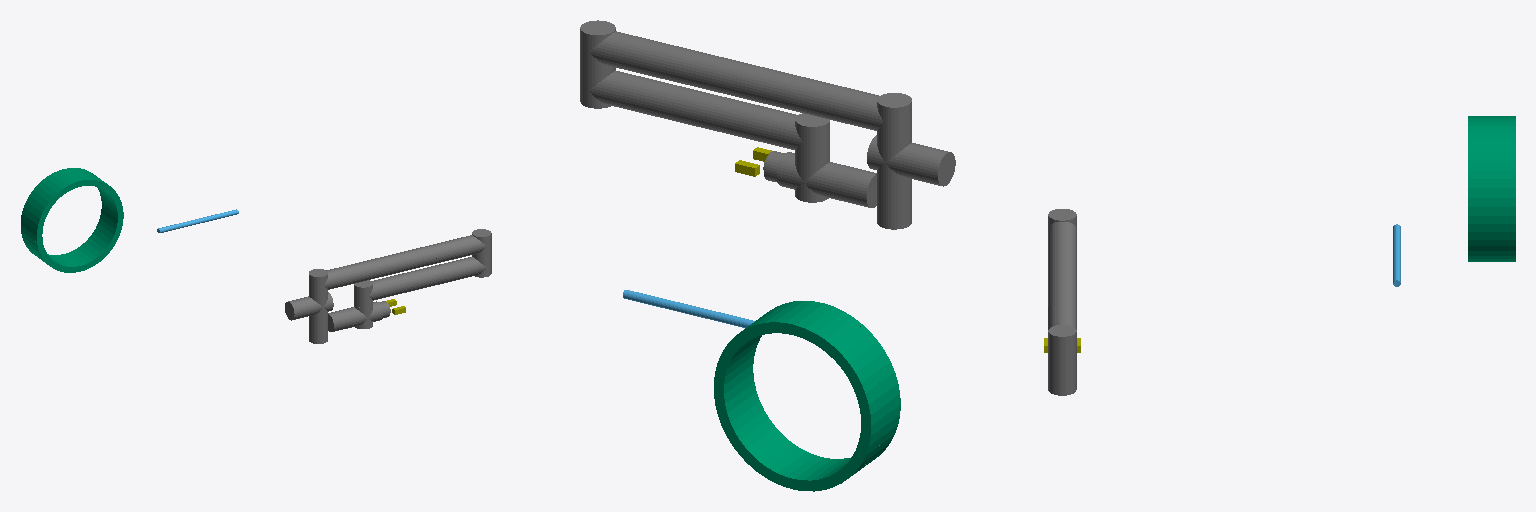
--- Render facts (derived) ---
3 views of the same robot in one strip: view 1: azimuth 30°, elevation 25°; view 2: azimuth 150°, elevation 25°; view 3: azimuth 270°, elevation 25° (orthographic).
Model satellite_with_arm with 15 links and 14 joints (7 revolute, 2 prismatic, 5 fixed), rooted at satellite_with_arm, posed joints at zero except 2 at the middle of their limits (finger_right_prismatic = 0.055, finger_left_prismatic = 0.055).
Links seen in each view (by area): view 1: base_ring, Link2, Link4, Link5, Link3, Link6, Link1; view 2: base_ring, Link2, Link4, Link5, Link3, Link6, Link1, base_urdf, ring1; view 3: base_ring, Link2, Link3, Link4.
Link boxes in pixels (x1,y1,x2,y2): base_ring: (21,168,123,272); Link2: (309,245,435,296); Link4: (413,253,491,289); Link5: (354,271,418,307); Link3: (431,229,491,263); Link6: (328,302,382,331); Link1: (304,292,333,343); base_ring: (714,301,900,491); Link2: (680,50,911,143); Link4: (580,65,722,130); Link5: (713,97,829,163); Link3: (580,20,690,84); Link6: (778,152,876,207); Link1: (867,135,923,229); base_urdf: (912,146,955,186); ring1: (623,290,754,327); base_ring: (1468,116,1515,261); Link2: (1048,209,1076,306); Link3: (1048,296,1076,365); Link4: (1048,361,1076,395).
Bounding box of the posed robot: 2.79 × 2.48 × 0.7713 m (x, y, z).
Meshes: 9 distinct files referenced, 8 mesh visuals loaded (8 binary STL); not drawn: 1 (reference not matched to a file when rendering).

The robot description file, URDF, robot "satellite_with_arm":
  
<robot name="satellite_with_arm">
  <material name="metal_grey">
    <color rgba="0.501960784313725 0.501960784313725 0.501960784313725 1"/>
  </material>
    <material name="yellow">
    <color rgba="0.7 0.7 0 1"/>
  </material>
  <link name="satellite_with_arm">
    <inertial>
      <mass value="100" />
      <!-- center of mass (com) is defined w.r.t. link local coordinate system -->
      <!-- give a little y-offset to make the top precess -->
      <origin xyz="0 0 0" /> 
      <inertia  ixx=" 45.3333" ixy="0.0"  ixz="0.0"  iyy=" 45.3333"  iyz="0.0"  izz="24" />
    </inertial>
       <visual>
           <!--  <origin rpy="0 0 0" xyz="-0.14599 -0.63199 0"/>-->

      <origin xyz="0.14599 0.63199 0" rpy="1.5708 3.141592 3.141592" />
      <geometry>
        <mesh filename="meshes/visual/satellite_with_arm_VISUAL.obj"  />
      </geometry>
      
 
    </visual>

    <collision>
      <origin rpy="0 0 0" xyz="0 0 0"/>
    <geometry>
       <box size="1.2 2 1.2" />
     </geometry>
    </collision>
  </link>
  <link name="ring1">
 <inertial>
     <mass value="0" />
      <!-- center of mass (com) is defined w.r.t. link local coordinate system -->
      <!-- give a little y-offset to make the top precess -->
      <origin xyz="0 0 0" /> 
      <inertia  ixx="0.0" ixy="0.0"  ixz="0.0"  iyy="0.0"  iyz="0.0"  izz="0.0" />
    </inertial>
       <visual>
      <origin xyz="0 0 0" rpy="1.5708 0 1.5708"/> 
	<geometry>
       <cylinder radius="0.02" length="0.7"/>

     </geometry>
    </visual>    
    <collision>
      <origin xyz="0 0 0" rpy="1.5708 0 1.5708"/> 
	   <geometry>
       <cylinder radius="0.02" length="0.7"/>
            </geometry>
    </collision>    
    

</link>
<link name="base_ring">
 <inertial>
     <mass value="0" />
      <!-- center of mass (com) is defined w.r.t. link local coordinate system -->
      <!-- give a little y-offset to make the top precess -->
      <origin xyz="0 -0.512734 0" /> 
      <inertia  ixx="0.0" ixy="0.0"  ixz="0.0"  iyy="0.0"  iyz="0.0"  izz="0.0" />
    </inertial>
<visual> <origin xyz='0.36 0 0 ' rpy = '0 0 0'/> 	   <geometry><box size='0.05 0.25 0.05' /></geometry> </visual> 
<visual> <origin xyz='0.35704 0 0.046036 ' rpy = '0 -0.12823 0'/> 	   <geometry><box size='0.05 0.25 0.05' /></geometry> </visual> 
<visual> <origin xyz='0.34823 0 0.091316 ' rpy = '0 -0.25646 0'/> 	   <geometry><box size='0.05 0.25 0.05' /></geometry> </visual> 
<visual> <origin xyz='0.33369 0 0.1351 ' rpy = '0 -0.38468 0'/> 	   <geometry><box size='0.05 0.25 0.05' /></geometry> </visual> 
<visual> <origin xyz='0.31367 0 0.17666 ' rpy = '0 -0.51291 0'/> 	   <geometry><box size='0.05 0.25 0.05' /></geometry> </visual> 
<visual> <origin xyz='0.28851 0 0.21532 ' rpy = '0 -0.64114 0'/> 	   <geometry><box size='0.05 0.25 0.05' /></geometry> </visual> 
<visual> <origin xyz='0.25861 0 0.25045 ' rpy = '0 -0.76937 0'/> 	   <geometry><box size='0.05 0.25 0.05' /></geometry> </visual> 
<visual> <origin xyz='0.22446 0 0.28146 ' rpy = '0 -0.8976 0'/> 	   <geometry><box size='0.05 0.25 0.05' /></geometry> </visual> 
<visual> <origin xyz='0.18662 0 0.30785 ' rpy = '0 -1.0258 0'/> 	   <geometry><box size='0.05 0.25 0.05' /></geometry> </visual> 
<visual> <origin xyz='0.14572 0 0.32919 ' rpy = '0 -1.1541 0'/> 	   <geometry><box size='0.05 0.25 0.05' /></geometry> </visual> 
<visual> <origin xyz='0.10243 0 0.34512 ' rpy = '0 -1.2823 0'/> 	   <geometry><box size='0.05 0.25 0.05' /></geometry> </visual> 
<visual> <origin xyz='0.057456 0 0.35539 ' rpy = '0 -1.4105 0'/> 	   <geometry><box size='0.05 0.25 0.05' /></geometry> </visual> 
<visual> <origin xyz='0.011539 0 0.35982 ' rpy = '0 -1.5387 0'/> 	   <geometry><box size='0.05 0.25 0.05' /></geometry> </visual> 
<visual> <origin xyz='-0.034568 0 0.35834 ' rpy = '0 -1.667 0'/> 	   <geometry><box size='0.05 0.25 0.05' /></geometry> </visual> 
<visual> <origin xyz='-0.080108 0 0.35097 ' rpy = '0 -1.7952 0'/> 	   <geometry><box size='0.05 0.25 0.05' /></geometry> </visual> 
<visual> <origin xyz='-0.12433 0 0.33785 ' rpy = '0 -1.9234 0'/> 	   <geometry><box size='0.05 0.25 0.05' /></geometry> </visual> 
<visual> <origin xyz='-0.16651 0 0.31918 ' rpy = '0 -2.0517 0'/> 	   <geometry><box size='0.05 0.25 0.05' /></geometry> </visual> 
<visual> <origin xyz='-0.20596 0 0.29526 ' rpy = '0 -2.1799 0'/> 	   <geometry><box size='0.05 0.25 0.05' /></geometry> </visual> 
<visual> <origin xyz='-0.24203 0 0.2665 ' rpy = '0 -2.3081 0'/> 	   <geometry><box size='0.05 0.25 0.05' /></geometry> </visual> 
<visual> <origin xyz='-0.27412 0 0.23336 ' rpy = '0 -2.4363 0'/> 	   <geometry><box size='0.05 0.25 0.05' /></geometry> </visual> 
<visual> <origin xyz='-0.30171 0 0.19639 ' rpy = '0 -2.5646 0'/> 	   <geometry><box size='0.05 0.25 0.05' /></geometry> </visual> 
<visual> <origin xyz='-0.32435 0 0.1562 ' rpy = '0 -2.6928 0'/> 	   <geometry><box size='0.05 0.25 0.05' /></geometry> </visual> 
<visual> <origin xyz='-0.34166 0 0.11344 ' rpy = '0 -2.821 0'/> 	   <geometry><box size='0.05 0.25 0.05' /></geometry> </visual> 
<visual> <origin xyz='-0.35336 0 0.068817 ' rpy = '0 -2.9493 0'/> 	   <geometry><box size='0.05 0.25 0.05' /></geometry> </visual> 
<visual> <origin xyz='-0.35926 0 0.023065 ' rpy = '0 -3.0775 0'/> 	   <geometry><box size='0.05 0.25 0.05' /></geometry> </visual> 
<visual> <origin xyz='-0.35926 0 -0.023065 ' rpy = '0 -3.2057 0'/> 	   <geometry><box size='0.05 0.25 0.05' /></geometry> </visual> 
<visual> <origin xyz='-0.35336 0 -0.068817 ' rpy = '0 -3.3339 0'/> 	   <geometry><box size='0.05 0.25 0.05' /></geometry> </visual> 
<visual> <origin xyz='-0.34166 0 -0.11344 ' rpy = '0 -3.4622 0'/> 	   <geometry><box size='0.05 0.25 0.05' /></geometry> </visual> 
<visual> <origin xyz='-0.32435 0 -0.1562 ' rpy = '0 -3.5904 0'/> 	   <geometry><box size='0.05 0.25 0.05' /></geometry> </visual> 
<visual> <origin xyz='-0.30171 0 -0.19639 ' rpy = '0 -3.7186 0'/> 	   <geometry><box size='0.05 0.25 0.05' /></geometry> </visual> 
<visual> <origin xyz='-0.27412 0 -0.23336 ' rpy = '0 -3.8468 0'/> 	   <geometry><box size='0.05 0.25 0.05' /></geometry> </visual> 
<visual> <origin xyz='-0.24203 0 -0.2665 ' rpy = '0 -3.9751 0'/> 	   <geometry><box size='0.05 0.25 0.05' /></geometry> </visual> 
<visual> <origin xyz='-0.20596 0 -0.29526 ' rpy = '0 -4.1033 0'/> 	   <geometry><box size='0.05 0.25 0.05' /></geometry> </visual> 
<visual> <origin xyz='-0.16651 0 -0.31918 ' rpy = '0 -4.2315 0'/> 	   <geometry><box size='0.05 0.25 0.05' /></geometry> </visual> 
<visual> <origin xyz='-0.12433 0 -0.33785 ' rpy = '0 -4.3598 0'/> 	   <geometry><box size='0.05 0.25 0.05' /></geometry> </visual> 
<visual> <origin xyz='-0.080108 0 -0.35097 ' rpy = '0 -4.488 0'/> 	   <geometry><box size='0.05 0.25 0.05' /></geometry> </visual> 
<visual> <origin xyz='-0.034568 0 -0.35834 ' rpy = '0 -4.6162 0'/> 	   <geometry><box size='0.05 0.25 0.05' /></geometry> </visual> 
<visual> <origin xyz='0.011539 0 -0.35982 ' rpy = '0 -4.7444 0'/> 	   <geometry><box size='0.05 0.25 0.05' /></geometry> </visual> 
<visual> <origin xyz='0.057456 0 -0.35539 ' rpy = '0 -4.8727 0'/> 	   <geometry><box size='0.05 0.25 0.05' /></geometry> </visual> 
<visual> <origin xyz='0.10243 0 -0.34512 ' rpy = '0 -5.0009 0'/> 	   <geometry><box size='0.05 0.25 0.05' /></geometry> </visual> 
<visual> <origin xyz='0.14572 0 -0.32919 ' rpy = '0 -5.1291 0'/> 	   <geometry><box size='0.05 0.25 0.05' /></geometry> </visual> 
<visual> <origin xyz='0.18662 0 -0.30785 ' rpy = '0 -5.2574 0'/> 	   <geometry><box size='0.05 0.25 0.05' /></geometry> </visual> 
<visual> <origin xyz='0.22446 0 -0.28146 ' rpy = '0 -5.3856 0'/> 	   <geometry><box size='0.05 0.25 0.05' /></geometry> </visual> 
<visual> <origin xyz='0.25861 0 -0.25045 ' rpy = '0 -5.5138 0'/> 	   <geometry><box size='0.05 0.25 0.05' /></geometry> </visual> 
<visual> <origin xyz='0.28851 0 -0.21532 ' rpy = '0 -5.642 0'/> 	   <geometry><box size='0.05 0.25 0.05' /></geometry> </visual> 
<visual> <origin xyz='0.31367 0 -0.17666 ' rpy = '0 -5.7703 0'/> 	   <geometry><box size='0.05 0.25 0.05' /></geometry> </visual> 
<visual> <origin xyz='0.33369 0 -0.1351 ' rpy = '0 -5.8985 0'/> 	   <geometry><box size='0.05 0.25 0.05' /></geometry> </visual> 
<visual> <origin xyz='0.34823 0 -0.091316 ' rpy = '0 -6.0267 0'/> 	   <geometry><box size='0.05 0.25 0.05' /></geometry> </visual> 
<visual> <origin xyz='0.35704 0 -0.046036 ' rpy = '0 -6.155 0'/> 	   <geometry><box size='0.05 0.25 0.05' /></geometry> </visual> 
<visual> <origin xyz='0.36 0 -8.8175e-17 ' rpy = '0 -6.2832 0'/> 	   <geometry><box size='0.05 0.25 0.05' /></geometry> </visual> 
<collision> <origin xyz='0.36 0 0 ' rpy = '0 0 0'/> 	   <geometry><box size='0.05 0.25 0.05' /></geometry> </collision> 
<collision> <origin xyz='0.35704 0 0.046036 ' rpy = '0 -0.12823 0'/> 	   <geometry><box size='0.05 0.25 0.05' /></geometry> </collision> 
<collision> <origin xyz='0.34823 0 0.091316 ' rpy = '0 -0.25646 0'/> 	   <geometry><box size='0.05 0.25 0.05' /></geometry> </collision> 
<collision> <origin xyz='0.33369 0 0.1351 ' rpy = '0 -0.38468 0'/> 	   <geometry><box size='0.05 0.25 0.05' /></geometry> </collision> 
<collision> <origin xyz='0.31367 0 0.17666 ' rpy = '0 -0.51291 0'/> 	   <geometry><box size='0.05 0.25 0.05' /></geometry> </collision> 
<collision> <origin xyz='0.28851 0 0.21532 ' rpy = '0 -0.64114 0'/> 	   <geometry><box size='0.05 0.25 0.05' /></geometry> </collision> 
<collision> <origin xyz='0.25861 0 0.25045 ' rpy = '0 -0.76937 0'/> 	   <geometry><box size='0.05 0.25 0.05' /></geometry> </collision> 
<collision> <origin xyz='0.22446 0 0.28146 ' rpy = '0 -0.8976 0'/> 	   <geometry><box size='0.05 0.25 0.05' /></geometry> </collision> 
<collision> <origin xyz='0.18662 0 0.30785 ' rpy = '0 -1.0258 0'/> 	   <geometry><box size='0.05 0.25 0.05' /></geometry> </collision> 
<collision> <origin xyz='0.14572 0 0.32919 ' rpy = '0 -1.1541 0'/> 	   <geometry><box size='0.05 0.25 0.05' /></geometry> </collision> 
<collision> <origin xyz='0.10243 0 0.34512 ' rpy = '0 -1.2823 0'/> 	   <geometry><box size='0.05 0.25 0.05' /></geometry> </collision> 
<collision> <origin xyz='0.057456 0 0.35539 ' rpy = '0 -1.4105 0'/> 	   <geometry><box size='0.05 0.25 0.05' /></geometry> </collision> 
<collision> <origin xyz='0.011539 0 0.35982 ' rpy = '0 -1.5387 0'/> 	   <geometry><box size='0.05 0.25 0.05' /></geometry> </collision> 
<collision> <origin xyz='-0.034568 0 0.35834 ' rpy = '0 -1.667 0'/> 	   <geometry><box size='0.05 0.25 0.05' /></geometry> </collision> 
<collision> <origin xyz='-0.080108 0 0.35097 ' rpy = '0 -1.7952 0'/> 	   <geometry><box size='0.05 0.25 0.05' /></geometry> </collision> 
<collision> <origin xyz='-0.12433 0 0.33785 ' rpy = '0 -1.9234 0'/> 	   <geometry><box size='0.05 0.25 0.05' /></geometry> </collision> 
<collision> <origin xyz='-0.16651 0 0.31918 ' rpy = '0 -2.0517 0'/> 	   <geometry><box size='0.05 0.25 0.05' /></geometry> </collision> 
<collision> <origin xyz='-0.20596 0 0.29526 ' rpy = '0 -2.1799 0'/> 	   <geometry><box size='0.05 0.25 0.05' /></geometry> </collision> 
<collision> <origin xyz='-0.24203 0 0.2665 ' rpy = '0 -2.3081 0'/> 	   <geometry><box size='0.05 0.25 0.05' /></geometry> </collision> 
<collision> <origin xyz='-0.27412 0 0.23336 ' rpy = '0 -2.4363 0'/> 	   <geometry><box size='0.05 0.25 0.05' /></geometry> </collision> 
<collision> <origin xyz='-0.30171 0 0.19639 ' rpy = '0 -2.5646 0'/> 	   <geometry><box size='0.05 0.25 0.05' /></geometry> </collision> 
<collision> <origin xyz='-0.32435 0 0.1562 ' rpy = '0 -2.6928 0'/> 	   <geometry><box size='0.05 0.25 0.05' /></geometry> </collision> 
<collision> <origin xyz='-0.34166 0 0.11344 ' rpy = '0 -2.821 0'/> 	   <geometry><box size='0.05 0.25 0.05' /></geometry> </collision> 
<collision> <origin xyz='-0.35336 0 0.068817 ' rpy = '0 -2.9493 0'/> 	   <geometry><box size='0.05 0.25 0.05' /></geometry> </collision> 
<collision> <origin xyz='-0.35926 0 0.023065 ' rpy = '0 -3.0775 0'/> 	   <geometry><box size='0.05 0.25 0.05' /></geometry> </collision> 
<collision> <origin xyz='-0.35926 0 -0.023065 ' rpy = '0 -3.2057 0'/> 	   <geometry><box size='0.05 0.25 0.05' /></geometry> </collision> 
<collision> <origin xyz='-0.35336 0 -0.068817 ' rpy = '0 -3.3339 0'/> 	   <geometry><box size='0.05 0.25 0.05' /></geometry> </collision> 
<collision> <origin xyz='-0.34166 0 -0.11344 ' rpy = '0 -3.4622 0'/> 	   <geometry><box size='0.05 0.25 0.05' /></geometry> </collision> 
<collision> <origin xyz='-0.32435 0 -0.1562 ' rpy = '0 -3.5904 0'/> 	   <geometry><box size='0.05 0.25 0.05' /></geometry> </collision> 
<collision> <origin xyz='-0.30171 0 -0.19639 ' rpy = '0 -3.7186 0'/> 	   <geometry><box size='0.05 0.25 0.05' /></geometry> </collision> 
<collision> <origin xyz='-0.27412 0 -0.23336 ' rpy = '0 -3.8468 0'/> 	   <geometry><box size='0.05 0.25 0.05' /></geometry> </collision> 
<collision> <origin xyz='-0.24203 0 -0.2665 ' rpy = '0 -3.9751 0'/> 	   <geometry><box size='0.05 0.25 0.05' /></geometry> </collision> 
<collision> <origin xyz='-0.20596 0 -0.29526 ' rpy = '0 -4.1033 0'/> 	   <geometry><box size='0.05 0.25 0.05' /></geometry> </collision> 
<collision> <origin xyz='-0.16651 0 -0.31918 ' rpy = '0 -4.2315 0'/> 	   <geometry><box size='0.05 0.25 0.05' /></geometry> </collision> 
<collision> <origin xyz='-0.12433 0 -0.33785 ' rpy = '0 -4.3598 0'/> 	   <geometry><box size='0.05 0.25 0.05' /></geometry> </collision> 
<collision> <origin xyz='-0.080108 0 -0.35097 ' rpy = '0 -4.488 0'/> 	   <geometry><box size='0.05 0.25 0.05' /></geometry> </collision> 
<collision> <origin xyz='-0.034568 0 -0.35834 ' rpy = '0 -4.6162 0'/> 	   <geometry><box size='0.05 0.25 0.05' /></geometry> </collision> 
<collision> <origin xyz='0.011539 0 -0.35982 ' rpy = '0 -4.7444 0'/> 	   <geometry><box size='0.05 0.25 0.05' /></geometry> </collision> 
<collision> <origin xyz='0.057456 0 -0.35539 ' rpy = '0 -4.8727 0'/> 	   <geometry><box size='0.05 0.25 0.05' /></geometry> </collision> 
<collision> <origin xyz='0.10243 0 -0.34512 ' rpy = '0 -5.0009 0'/> 	   <geometry><box size='0.05 0.25 0.05' /></geometry> </collision> 
<collision> <origin xyz='0.14572 0 -0.32919 ' rpy = '0 -5.1291 0'/> 	   <geometry><box size='0.05 0.25 0.05' /></geometry> </collision> 
<collision> <origin xyz='0.18662 0 -0.30785 ' rpy = '0 -5.2574 0'/> 	   <geometry><box size='0.05 0.25 0.05' /></geometry> </collision> 
<collision> <origin xyz='0.22446 0 -0.28146 ' rpy = '0 -5.3856 0'/> 	   <geometry><box size='0.05 0.25 0.05' /></geometry> </collision> 
<collision> <origin xyz='0.25861 0 -0.25045 ' rpy = '0 -5.5138 0'/> 	   <geometry><box size='0.05 0.25 0.05' /></geometry> </collision> 
<collision> <origin xyz='0.28851 0 -0.21532 ' rpy = '0 -5.642 0'/> 	   <geometry><box size='0.05 0.25 0.05' /></geometry> </collision> 
<collision> <origin xyz='0.31367 0 -0.17666 ' rpy = '0 -5.7703 0'/> 	   <geometry><box size='0.05 0.25 0.05' /></geometry> </collision> 
<collision> <origin xyz='0.33369 0 -0.1351 ' rpy = '0 -5.8985 0'/> 	   <geometry><box size='0.05 0.25 0.05' /></geometry> </collision> 
<collision> <origin xyz='0.34823 0 -0.091316 ' rpy = '0 -6.0267 0'/> 	   <geometry><box size='0.05 0.25 0.05' /></geometry> </collision> 
<collision> <origin xyz='0.35704 0 -0.046036 ' rpy = '0 -6.155 0'/> 	   <geometry><box size='0.05 0.25 0.05' /></geometry> </collision> 
<collision> <origin xyz='0.36 0 -8.8175e-17 ' rpy = '0 -6.2832 0'/> 	   <geometry><box size='0.05 0.25 0.05' /></geometry> </collision>  
</link>

  <link name="base_urdf">
    <inertial>
      <origin xyz="0 0 0" rpy="0 0 0" />
      <mass value="4.48218" />
      <inertia
        ixx=" 0.04755097476"
        ixy=" 0.00000000000"
        ixz=" 0.00000000000"
        iyy=" 0.04755157166"
        iyz="-0.00000000081"
        izz=" 0.00981063776" />
    </inertial>
    <!--<inertial>
      <origin xyz="0 0 0" rpy="0 0 0" />
      <mass value="0" />
      <inertia
        ixx=" 0.00"
        ixy=" 0.00000000000"
        ixz=" 0.00000000000"
        iyy=" 0.00"
        iyz="0"
        izz=" 0" />
    </inertial>-->
    <visual>
      <origin xyz="0 0 0" rpy="0 0 0" />
      <geometry>
        <mesh filename="meshes/base.stl" />
      </geometry>
      <material name="metal_grey"/>
    </visual>

    <collision>
      <origin rpy="0 0 0" xyz="0 0 0"/>
      <geometry>
        <mesh filename="meshes/base.stl"/>
      </geometry>
    </collision>
  </link>

<!-- link1-->
  <link name="Link1">
    <inertial>
      <origin xyz="0 0 0" rpy="0 0 0" />
      <mass value="6.68036" />
      <inertia
        ixx=" 0.10111928569"
        ixy=" 0.00000008334"
        ixz=" 0.03015133480"
        iyy=" 0.18848740784"
        iyz="-0.00000017706"
        izz=" 0.10400188938" />
    </inertial>

    <visual>
      <origin xyz="0 0 0" rpy="0 0 0" />
      <geometry>
        <mesh filename="meshes/link1.stl" />
      </geometry>
      <material name="metal_grey"/>
    </visual>

    <collision>
      <origin rpy="0 0 0" xyz="0 0 0"/>
      <geometry>
        <mesh filename="meshes/link1.stl"/>
      </geometry>
    </collision>
  </link>

<!-- link2-->
  <link name="Link2">
    <inertial>
      <origin xyz="0 0 0" rpy="0 0 0" />
      <mass value="11.79632" />
      <inertia
        ixx=" 4.91550234685"
        ixy=" 0.00000014822"
        ixz="-0.50555195363"
        iyy=" 4.98412972242"
        iyz=" 0.00000019211"
        izz=" 0.09931438243" />
    </inertial>

    <visual>
      <origin xyz="0 0 0" rpy="0 0 0" />
      <geometry>
        <mesh filename="meshes/link2.stl" />
      </geometry>
      <material name="metal_grey"/>
    </visual>

    <collision>
      <origin rpy="0 0 0" xyz="0 0 0"/>
      <geometry>
        <mesh filename="meshes/link2.stl"/>
      </geometry>
    </collision>
  </link>

<!-- link3-->
  <link name="Link3">
    <inertial>
      <origin xyz="0 0 0" rpy="0 0 0" />
      <mass value="6.64337" />
      <inertia
        ixx=" 0.63648861546"
        ixy="-0.00000008021"
        ixz=" 0.05018998139"
        iyy=" 0.64404883542"
        iyz=" 0.00000051611"
        izz=" 0.02392204376" />
    </inertial>

    <visual>
      <origin xyz="0 0 0" rpy="0 0 0" />
      <geometry>
        <mesh filename="meshes/link3.stl" />
      </geometry>
      <material name="metal_grey"/>
    </visual>

    <collision>
      <origin rpy="0 0 0" xyz="0 0 0"/>
      <geometry>
        <mesh filename="meshes/link3.stl"/>
      </geometry>
    </collision>
  </link>

<!-- link4-->
  <link name="Link4">
    <inertial>
      <origin xyz="0 0 0" rpy="0 0 0" />
      <mass value="10.52407" />
      <inertia
        ixx=" 1.58306193195"
        ixy="-0.00000015788"
        ixz="-0.26496599873"
        iyy=" 1.64103561723"
        iyz="-0.00000014054"
        izz=" 0.08369098333" />
    </inertial>

    <visual>
      <origin xyz="0 0 0" rpy="0 0 0" />
      <geometry>
        <mesh filename="meshes/link4.stl" />
      </geometry>
      <material name="metal_grey"/>
    </visual>

    <collision>
      <origin rpy="0 0 0" xyz="0 0 0"/>
      <geometry>
        <mesh filename="meshes/link4.stl"/>
      </geometry>
    </collision>
  </link>

<!-- link5-->
  <link name="Link5">
    <inertial>
      <origin xyz="0 0 0" rpy="0 0 0" />
      <mass value="6.64337" />
      <inertia
        ixx=" 0.63648861546"
        ixy=" 0.00000008021"
        ixz="-0.05018998139"
        iyy=" 0.64404883542"
        iyz=" 0.00000051611"
        izz=" 0.02392204376" />
    </inertial>

    <visual>
      <origin xyz="0 0 0" rpy="0 0 0" />
      <geometry>
        <mesh filename="meshes/link5.stl" />
      </geometry>
      <material name="metal_grey"/>
    </visual>
<!--

    <collision>
      <origin rpy="0 0 0" xyz="0 0 0"/>
      <geometry>
        <mesh filename="meshes/link5.stl"/>
      </geometry>
    </collision>
    -->
  </link>

<!-- link6-->
  <link name="Link6">
    <inertial>
      <origin xyz="0 0 0" rpy="0 0 0" />
      <mass value="8.75036" />
      <inertia
        ixx=" 0.30380671545"
        ixy="-0.00000008334"
        ixz=" 0.02875889215"
        iyy=" 0.31843566669"
        iyz="-0.00000017706"
        izz=" 0.03617183352" />
    </inertial>

    <visual>
      <origin xyz="0 0 0" rpy="0 0 0" />
      <geometry>
        <mesh filename="meshes/link6.stl" />
      </geometry>
      <material name="metal_grey"/>
    </visual>
<!--
    <collision>
      <origin rpy="0 0 0" xyz="0 0 0"/>
      <geometry>
        <mesh filename="meshes/link6.stl"/>
      </geometry>
    </collision>
    -->
  </link>

<!-- link7-->
  <link name="Link7">
    <inertial>
      <origin xyz="0 0 0" rpy="0 0 0" />
      <mass value="4.49347" />
      <inertia
        ixx="0.00157801213"
        ixy="0.00000000000"
        ixz="0.00000000000"
        iyy="0.01157801213"
        iyz="0.00000000000"
        izz="0.00894926406" />
    </inertial>

    <visual>
      <origin xyz="0 0 0" rpy="0 0 0" />
      <geometry>
        <mesh filename="meshes/link7.stl" />
      </geometry>
      <material name="metal_grey"/>

    </visual>
    <collision>
      <origin rpy="0 0 0" xyz="0 0 0"/>
      <geometry>
        <mesh filename="meshes/link7.stl"/>
      </geometry>
    </collision>
  </link>

<!-- tcp-->
  <link name="tcp">
    <inertial>
      <mass value="0.0"/>
      <origin rpy="0 0 0" xyz="0.0 0.0 0.0"/>
      <inertia ixx="0.0" ixy="0.0" ixz="0.0" iyy="0.0" iyz="0.0" izz="0.0"/>
    </inertial>

    <collision>
      <geometry>
        <box size="0.00 0.00 0.00"/>
      </geometry>
      <origin rpy="0 0 0" xyz="0.00 0 0"/>
    </collision>
  </link>

  <link name="finger_right">
    <inertial>
      <mass value="0.1"/>
      <origin rpy="0 0 0" xyz="0.0 0.0 0.0"/>
      <inertia ixx="0.0" ixy="0.0" ixz="0.0" iyy="0.0" iyz="0.0" izz="0.0"/>
    </inertial>
    <visual>
      <geometry>
        <box size="0.04 0.04 0.1"/>
      </geometry>
      <origin rpy="0 0 0" xyz="0.00 0 0"/>
            <material name="yellow"/>

    </visual>
    
    <collision>
      <geometry>
        <box size="0.04 0.04 0.1"/>
      </geometry>
      <origin rpy="0 0 0" xyz="0.00 0 0"/>
    </collision>
      <contact>
      <lateral_friction value="1.0"/>
      <inertia_scaling value="3.0"/>
    </contact>
  </link>
  <link name="finger_left">
    <inertial>
      <mass value="0.1"/>
      <origin rpy="0 0 0" xyz="0.0 0.0 0.0"/>
      <inertia ixx="0.0" ixy="0.0" ixz="0.0" iyy="0.0" iyz="0.0" izz="0.0"/>
    </inertial>
    <visual>
      <geometry>
        <box size="0.04 0.04 0.1"/>
      </geometry>
      <origin rpy="0 0 0" xyz="0.00 0 0"/>
        <material name="yellow"/>

    </visual>
    <collision>
      <geometry>
        <box size="0.04 0.04 0.1"/>
      </geometry>
      <origin rpy="0 0 0" xyz="0.00 0 0"/>
    </collision>
      <contact>
      <lateral_friction value="1.0"/>
      <inertia_scaling value="3.0"/>
    </contact>
  </link>

  
  <joint name="ring1_fixed" type="fixed">
    <origin xyz="0.82924 0.63199 0" rpy="0 0 0" />
    <parent link="satellite_with_arm" />
    <child link="ring1" />
  </joint>
      <joint name="base_ring_fixed" type="fixed">
    <origin xyz="0 1.13199  0" rpy="0 0 0" />
    <parent link="satellite_with_arm" />
    <child link="base_ring" />
  </joint>
    <joint name="satellite_with_arm_fixed" type="fixed">
    <origin xyz="0.6245 -1.13181 0" rpy="0 1.5708 0" />
    <parent link="satellite_with_arm" />
    <child link="base_urdf" />
  </joint>
  
  
<!-- joint1-->
  <joint name="Joint1" type="revolute">
    <origin xyz="0 0 0.128" rpy="0 0 0" />
    <parent link="base_urdf" />
    <child link="Link1" />
    <axis xyz="0 0 1" />
    <limit
      lower="-6.28"
      upper="6.28"
      effort="100"
      velocity="20" />
  </joint>

<!-- joint2-->
  <joint name="Joint2" type="revolute">
    <origin xyz="-0.0915 0 0.128" rpy="0 0 0" />
    <parent link="Link1" />
    <child link="Link2" />
    <axis xyz="-1 0 0" />
    <limit
      lower="-6.28"
      upper="6.28"
      effort="100"
      velocity="20" />
  </joint>

<!-- joint3-->
  <joint name="Joint3" type="revolute">
    <origin xyz="-0.0915 0 1.0045" rpy="0 0 0" />
    <parent link="Link2" />
    <child link="Link3" />
    <axis xyz="0 0 1" />
    <limit
      lower="-6.28"
      upper="6.28"
      effort="100"
      velocity="20" />
  </joint>

<!-- joint4-->
  <joint name="Joint4" type="revolute">
    <origin xyz="0.0915 0 0.4455" rpy="0 0 0" />
    <parent link="Link3" />
    <child link="Link4" />
    <axis xyz="1 0 0" />
    <limit
      lower="-6.28"
      upper="6.28"
      effort="100"
      velocity="20" />
  </joint>

<!-- joint5-->
  <joint name="Joint5" type="revolute">
    <origin xyz="0.0915 0 -0.6045" rpy="0 0 0" />
    <parent link="Link4" />
    <child link="Link5" />
    <axis xyz="0 0 -1" />
    <limit
      lower="-6.28"
      upper="6.28"
      effort="100"
      velocity="20" />
  </joint>

<!-- joint6-->
  <joint name="Joint6" type="revolute">
    <origin xyz="0.0915 0 -0.4455" rpy="0 0 0" />
    <parent link="Link5" />
    <child link="Link6" />
    <axis xyz="1 0 0" />
    <limit
      lower="-6.28"
      upper="6.28"
      effort="100"
      velocity="20" />
  </joint>

<!-- joint7-->
  <joint name="Joint7" type="revolute">
    <origin xyz="0.0915 0 0.128" rpy="0 0 0" />
    <parent link="Link6" />
    <child link="Link7" />
    <axis xyz="0 0 1" />
    <limit
      lower="-6.28"
      upper="6.28"
      effort="100"
      velocity="20" />
  </joint>

  <joint name="tcp" type="fixed">
    <origin xyz="0 0 0.087" rpy="0 0 0"/>
    <parent link="Link7"/>
    <child link="tcp"/>
  </joint>

 
  <joint name="finger_right_prismatic" type="prismatic">
    <origin xyz="0 0.02 0.06" rpy="0 0 0"/>
    <axis xyz="0 1 0"/>
    <parent link="tcp"/>
    <child link="finger_right"/>
    <limit effort="100" lower="0.01" upper="0.1" velocity="0.3"/>
  </joint>
  <joint name="finger_left_prismatic" type="prismatic">
    <origin xyz="0 -0.02 0.06" rpy="0 0 0"/>
    <axis xyz="0 -1 0"/>
    <parent link="tcp"/>
    <child link="finger_left"/>
    <limit effort="100" lower="0.01" upper="0.1" velocity="0.3"/>
  </joint>  
  <link name="body_com">
    <inertial>
      <mass value="0.0"/>
      <origin rpy="0 0 0" xyz="0.0 0.0 0.0"/>
      <inertia ixx="0.0" ixy="0.0" ixz="0.0" iyy="0.0" iyz="0.0" izz="0.0"/>
    </inertial>

    <collision>
      <geometry>
        <box size="0.00 0.00 0.00"/>
      </geometry>
      <origin rpy="0 0 0" xyz="0.00 0 0"/>
    </collision>
  </link>
  <joint name="body_com_fixed" type="fixed">
    <origin xyz="0 0 0" rpy="0 0 0"/>
    <parent link="satellite_with_arm"/>
    <child link="body_com"/>
  </joint>    
</robot>
